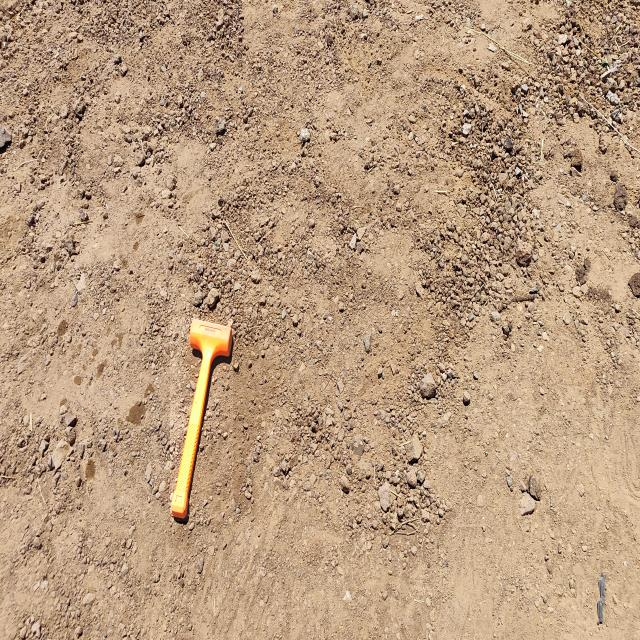Orange_hammer: (170, 317, 233, 521)
